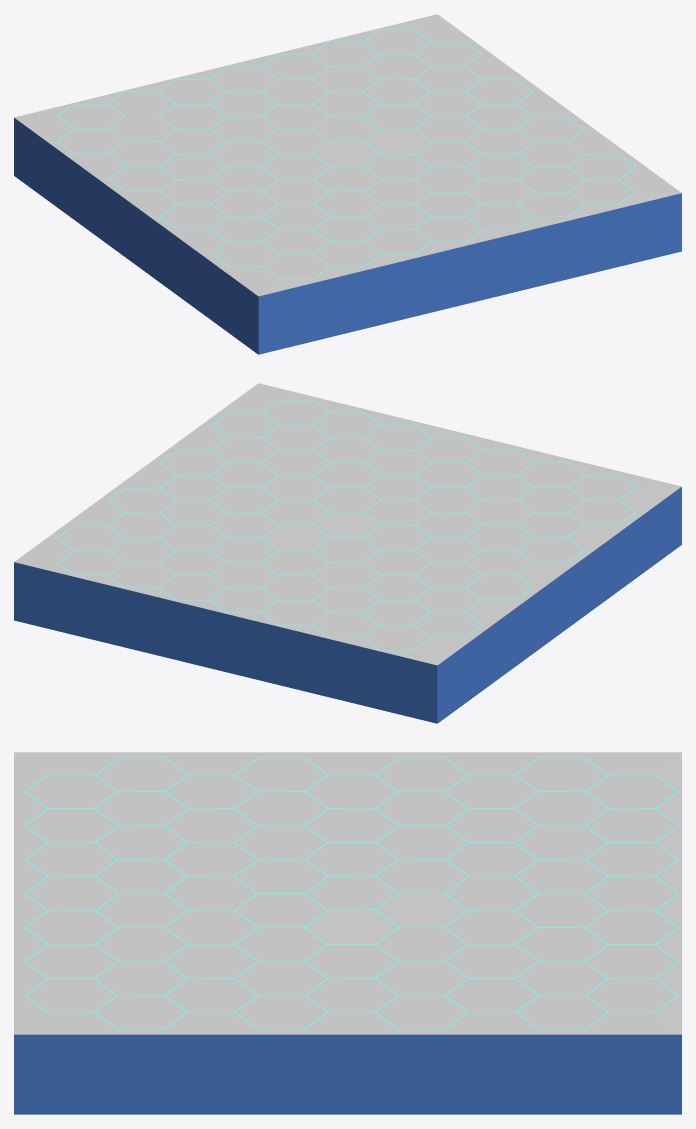
The model's file is My field.fbx.
The picture shows the model from 3 angles, top to bottom: view 1: azimuth 30°, elevation 25°; view 2: azimuth 150°, elevation 25°; view 3: azimuth 270°, elevation 25°; orthographic projection. The views are drawn at different scales.
Visible parts, largest first — view 1: Plane.150; view 2: Plane.150; view 3: Plane.150.
Part boxes in pixels (x1,y1,x2,y2): Plane.150: (14, 14, 681, 354); Plane.150: (14, 383, 681, 723); Plane.150: (14, 752, 681, 1114).
Size of the model in its own units: 4972 by 666 by 4972.
